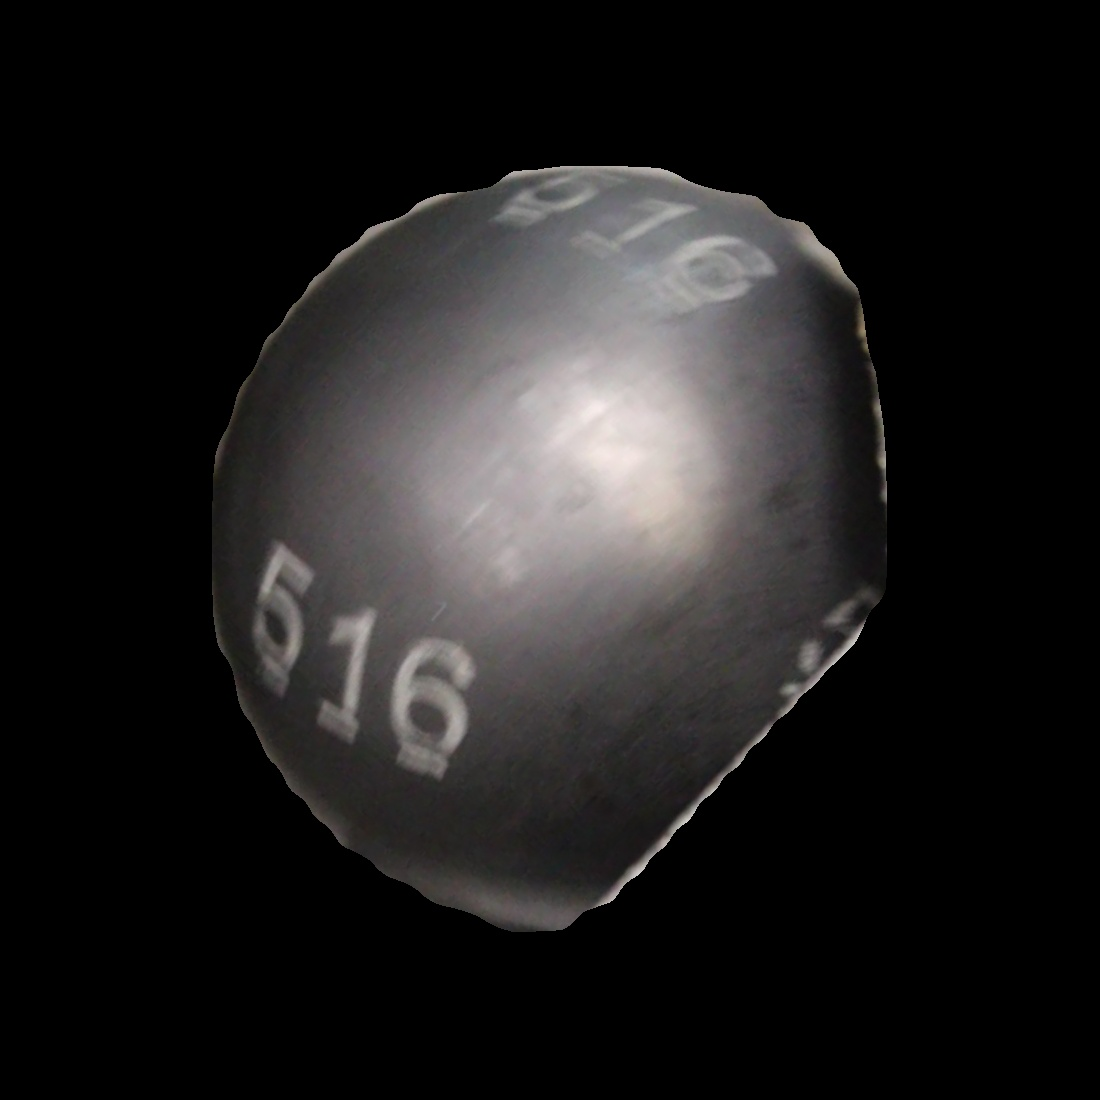digits: (244, 532, 474, 778)
